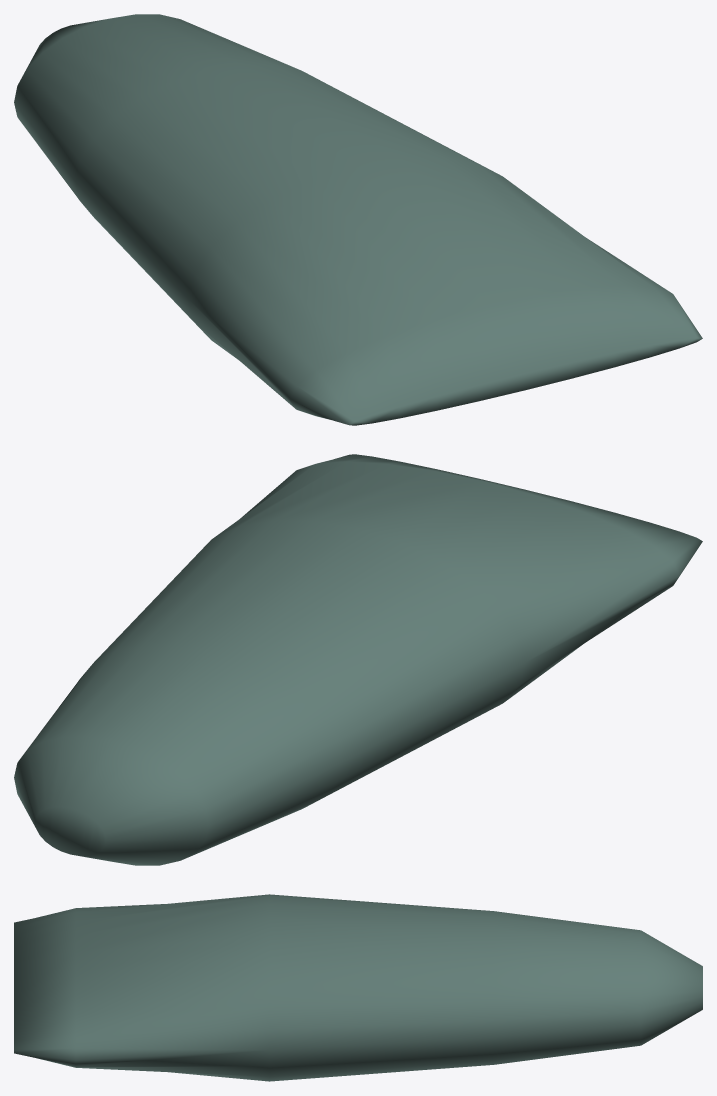
File: PolishedStoneAxe.fbx
3 renders of one model, top to bottom at view 1: azimuth 30°, elevation 25°; view 2: azimuth 150°, elevation 25°; view 3: azimuth 270°, elevation 25°, orthographic. The views are drawn at different scales.
Parts seen in each view (by area): view 1: Material group PolishedStoneAxe_Greenstone; view 2: Material group PolishedStoneAxe_Greenstone; view 3: Material group PolishedStoneAxe_Greenstone.
Part boxes in pixels (x1,y1,x2,y2): Material group PolishedStoneAxe_Greenstone: (14, 14, 702, 425); Material group PolishedStoneAxe_Greenstone: (14, 454, 702, 865); Material group PolishedStoneAxe_Greenstone: (14, 894, 702, 1081).
Size of the model in its own units: 0.4944 by 0.2247 by 1.
